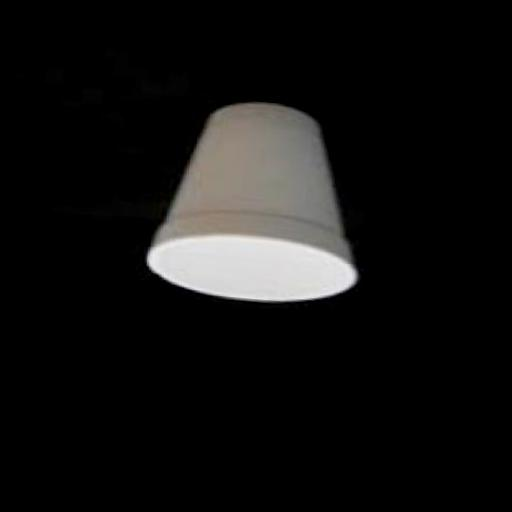paper: (144, 93, 377, 314)
